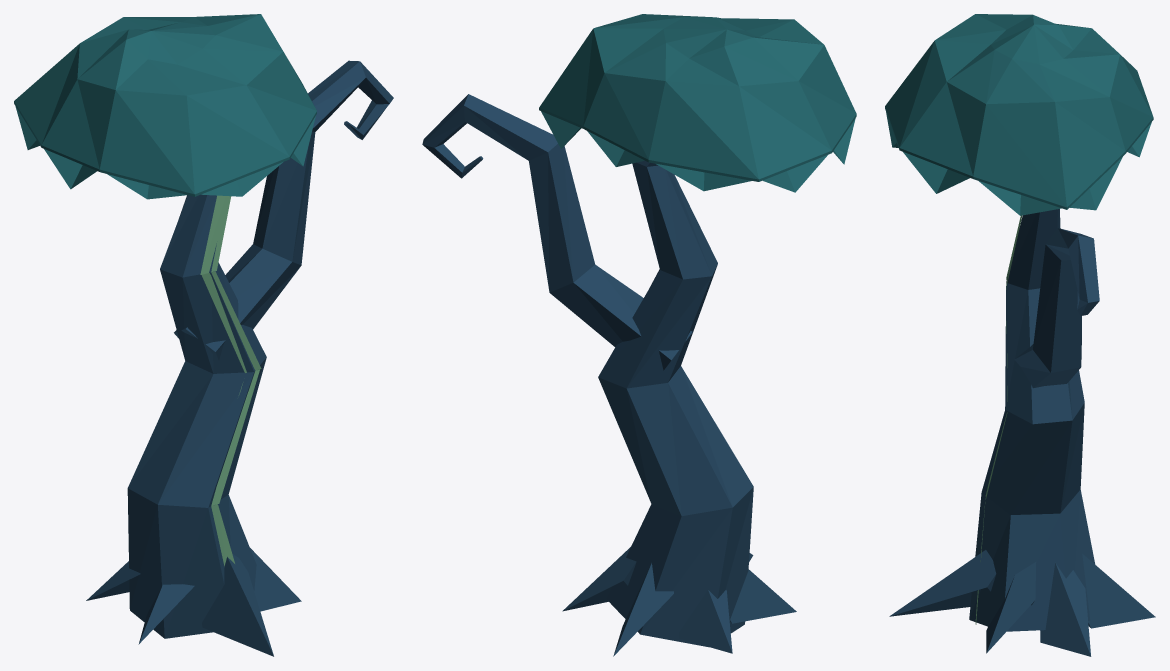
3 views of the same model, side by side, from view 1: azimuth 30°, elevation 25°; view 2: azimuth 150°, elevation 25°; view 3: azimuth 270°, elevation 25° (orthographic). The views are drawn at different scales.
Parts seen in each view (by area): view 1: 复用无尽森林树_4.001; view 2: 复用无尽森林树_4.001; view 3: 复用无尽森林树_4.001.
Part boxes in pixels (<box>): 复用无尽森林树_4.001: <box>14,14,393,656</box>; 复用无尽森林树_4.001: <box>422,14,856,656</box>; 复用无尽森林树_4.001: <box>885,14,1155,656</box>.
Bounding box in the file's own units: 0.356 × 0.5379 × 0.2273.
